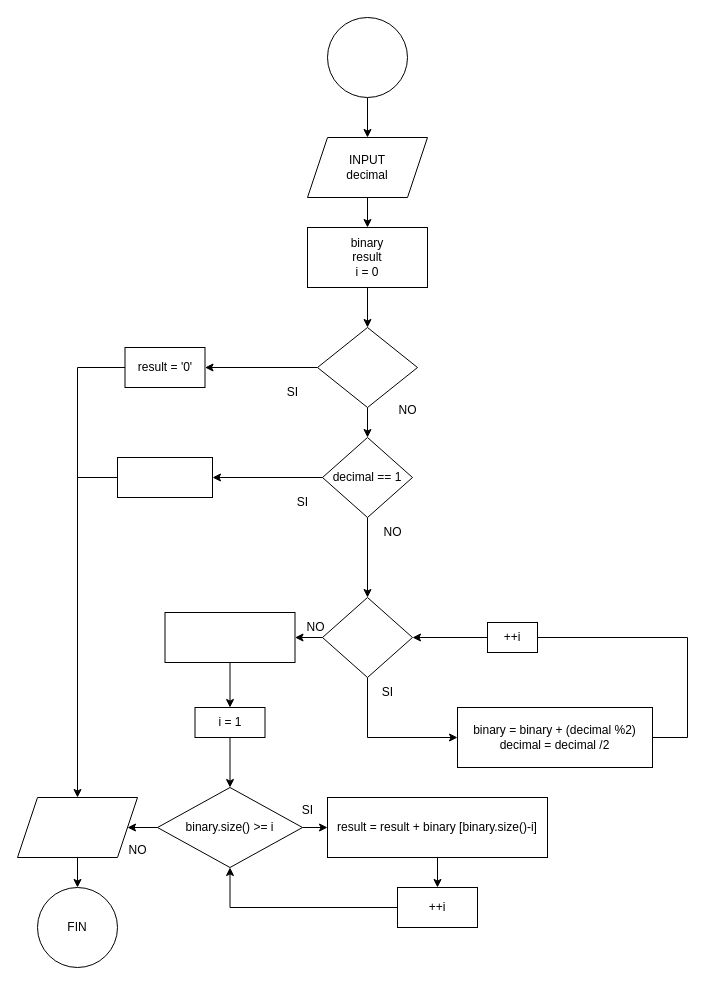
The diagram is 713 pixels wide and 985 high, and some of its shapes have lost their labels. The shapes that lost their labels are listed below. From the top down, each one's box as (x1, y1, x2, y2) in pixels, then its label:
(326, 16, 408, 98): INICIO
(316, 326, 418, 408): decimal == 0
(116, 456, 212, 498): result = '1'
(164, 612, 295, 662): binary = binary + '1'
(322, 596, 412, 678): decimal != 1
(16, 796, 138, 858): OUTPUT result
